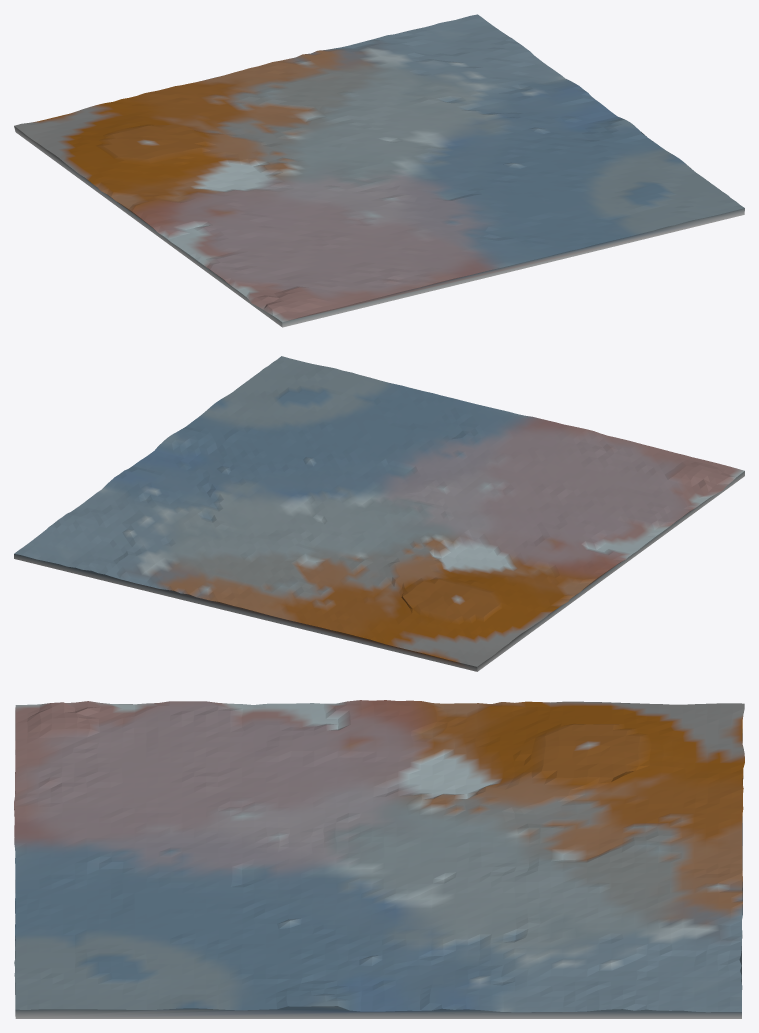
File: floor.glb
3 views of the same model, one above another, from view 1: azimuth 30°, elevation 25°; view 2: azimuth 150°, elevation 25°; view 3: azimuth 270°, elevation 25° (orthographic). The views are drawn at different scales.
Parts seen in each view (by area): view 1: Cube; view 2: Cube; view 3: Cube.
Part boxes in pixels (box(x1,y1,x2,y2)): Cube: box(14, 14, 744, 327); Cube: box(14, 356, 744, 671); Cube: box(14, 700, 744, 1018).
Size of the model in its own units: 40.42 by 1.05 by 40.26.
